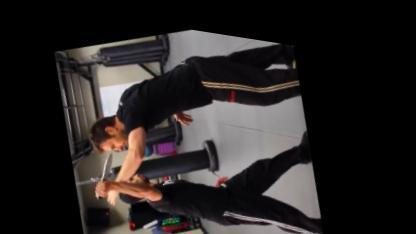knife: (87, 144, 130, 199)
